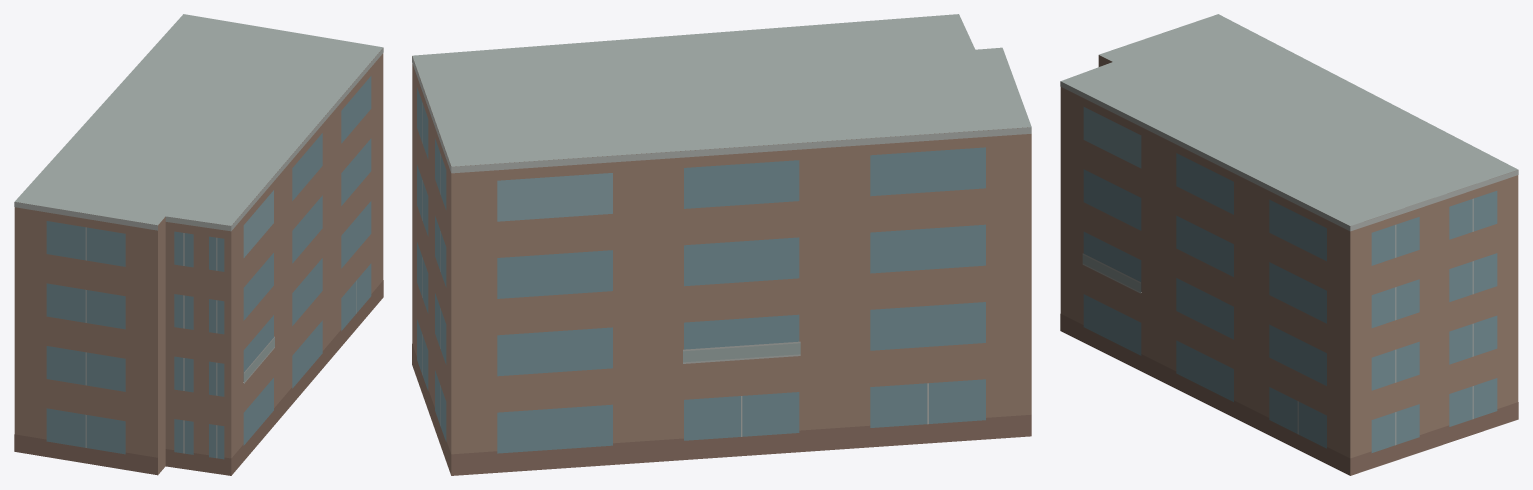
File: survey-upis-32836436.glb
The picture shows the model from 3 angles, left to right: view 1: azimuth 30°, elevation 25°; view 2: azimuth 150°, elevation 25°; view 3: azimuth 270°, elevation 25°; orthographic projection. The views are drawn at different scales.
Visible parts, largest first — view 1: survey-upis-32836436.tmp; view 2: survey-upis-32836436.tmp; view 3: survey-upis-32836436.tmp.
Part boxes in pixels (x1,y1,x2,y2): survey-upis-32836436.tmp: [14, 14, 383, 475]; survey-upis-32836436.tmp: [412, 14, 1031, 475]; survey-upis-32836436.tmp: [1060, 14, 1518, 475].
Bounding box in the file's own units: 20.59 × 11.3 × 18.78.
